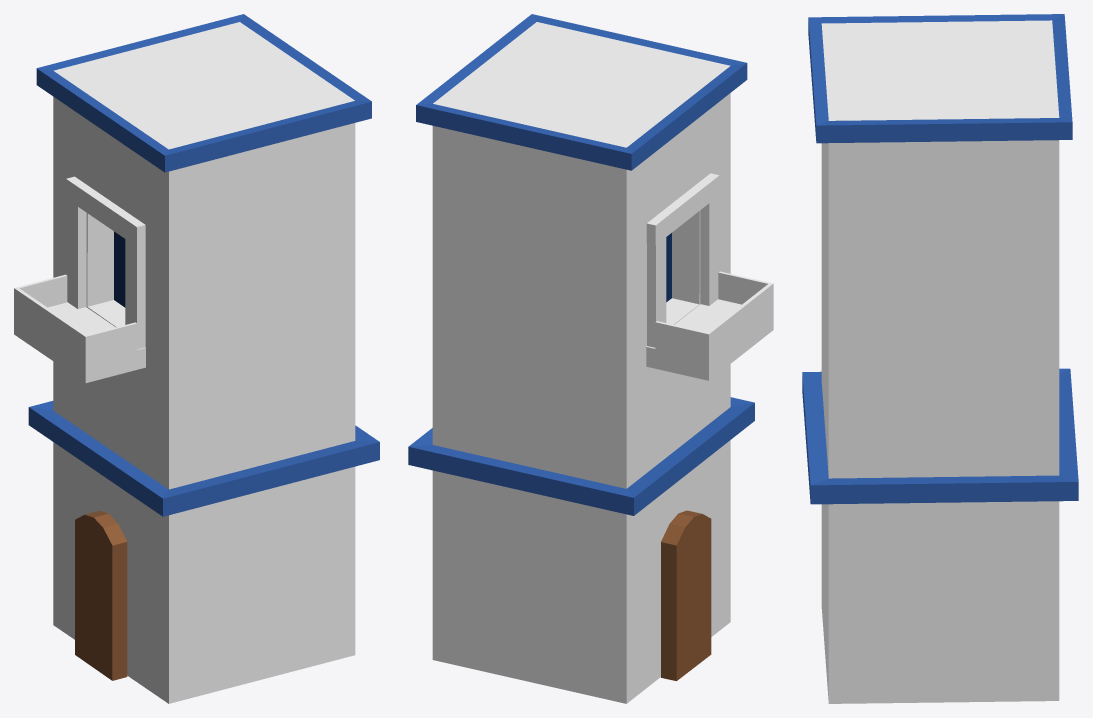
The model's file is house_05.fbx.
The picture shows the model from 3 angles, left to right: view 1: azimuth 30°, elevation 25°; view 2: azimuth 150°, elevation 25°; view 3: azimuth 270°, elevation 25°; orthographic projection. The views are drawn at different scales.
Parts seen in each view (by area): view 1: house_05; view 2: house_05; view 3: house_05.
Boxes of the visible parts, box(x1,y1,x2,y2) form: house_05: box(14, 14, 379, 703); house_05: box(408, 14, 773, 703); house_05: box(802, 14, 1078, 703).
Bounding box in the file's own units: 367 × 716 × 307.
1 material, 1 textured.
